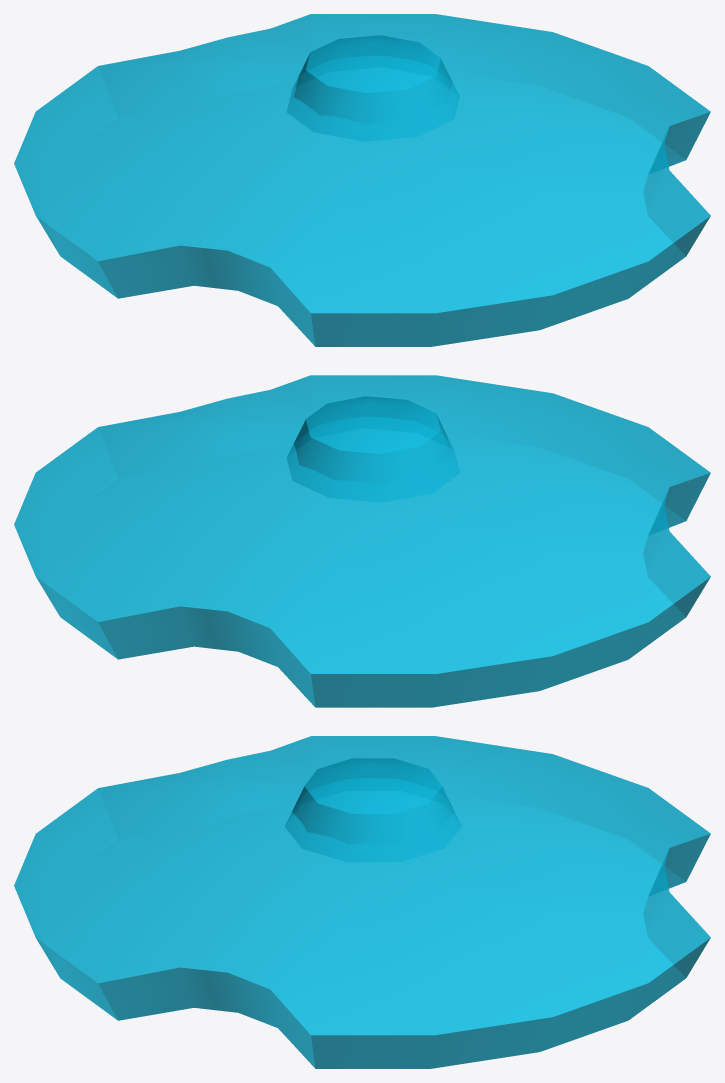
Rendered from item_shield02.fbx.
3 views of the same model, one above another, from view 1: azimuth 30°, elevation 25°; view 2: azimuth 150°, elevation 25°; view 3: azimuth 270°, elevation 25° (orthographic).
Visible parts, largest first — view 1: item_shield02; view 2: item_shield02; view 3: item_shield02.
Boxes of the visible parts, x1,y1,x2,y2 form: item_shield02: [14, 14, 710, 346]; item_shield02: [14, 375, 710, 707]; item_shield02: [14, 736, 710, 1068].
Bounding box in the file's own units: 0.9976 × 0.2577 × 0.9825.
